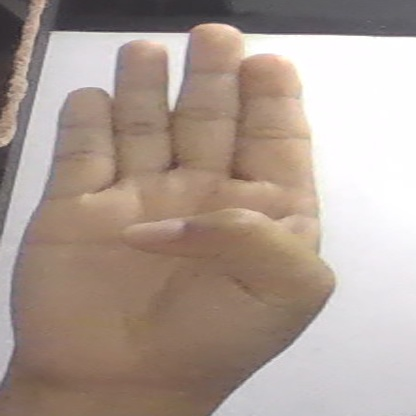B: (2, 23, 336, 395)
